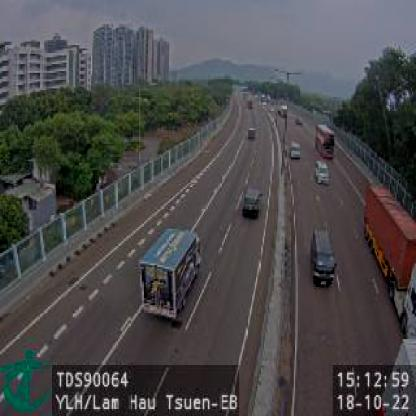Bus: (314, 123, 335, 160)
Car: (309, 226, 337, 286), (242, 187, 263, 219), (314, 160, 331, 184), (289, 141, 302, 160), (247, 125, 257, 140)
Truck: (362, 186, 416, 337), (141, 226, 202, 323)
